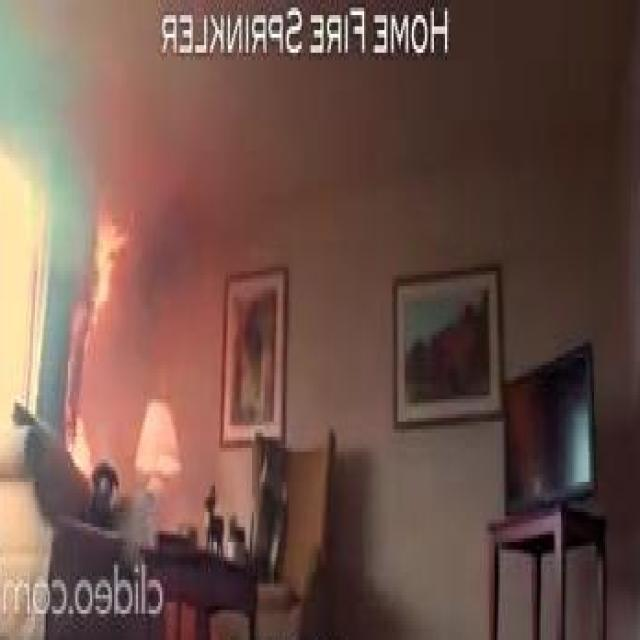smoke: (89, 200, 132, 328), (64, 403, 98, 482)
